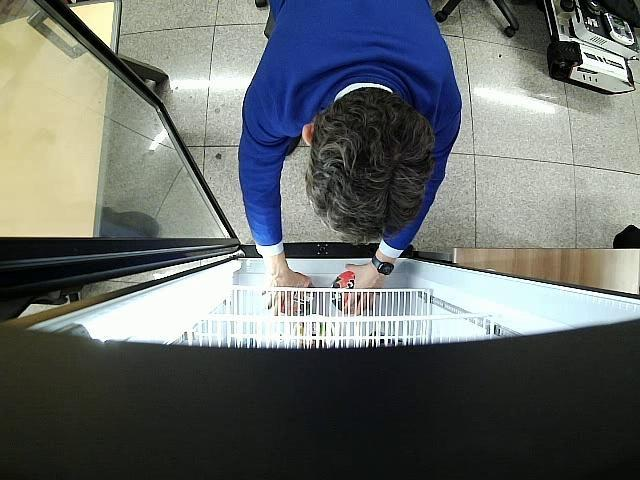01_ShinRamen_L: (280, 274, 314, 314), (331, 273, 356, 315)
